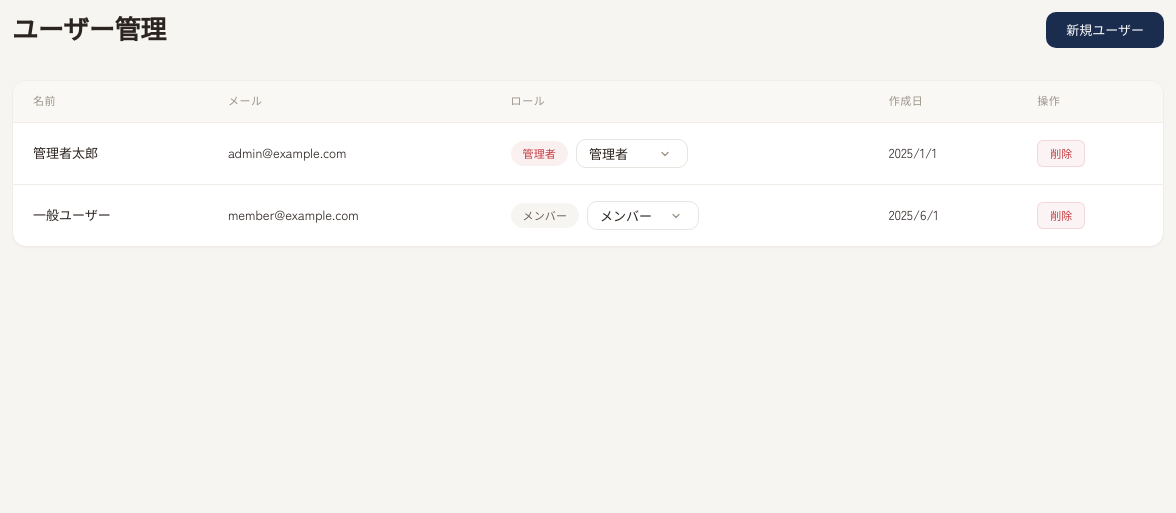
Test: UsersPage › 新規ユーザー作成フォームが開閉できる
Note: ボタンクリックでフォーム表示
Step 1. Click the button "新規ユーザー" → [1105, 30], box [1046,12,1164,48]
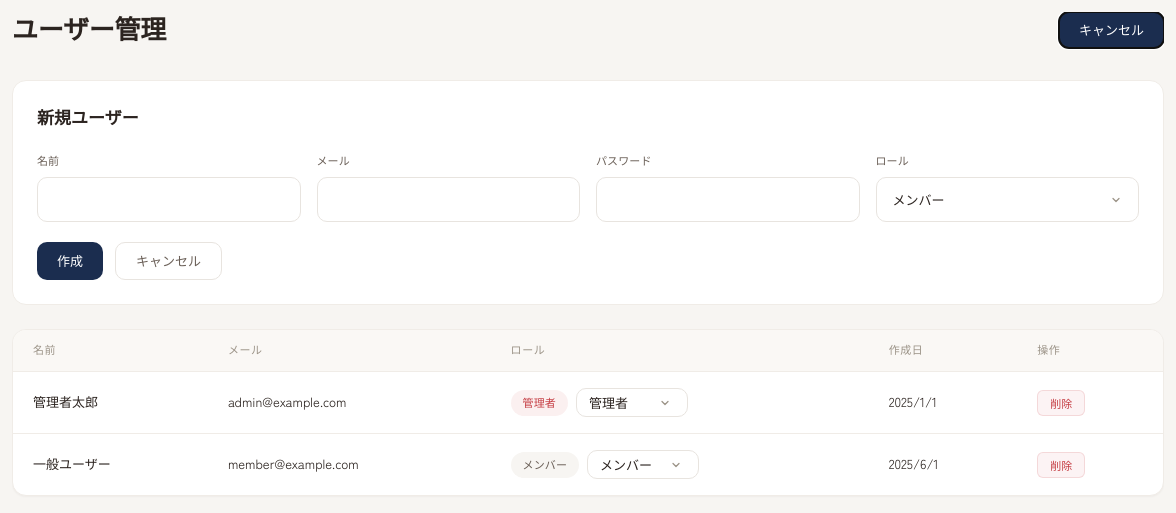
Check: the number of forms is 1, box [37,152,1139,280]
Note: キャンセルで非表示（フォーム内のキャンセルボタンをクリック）
Step 2. Click the button "キャンセル" below "新規ユーザー" → [168, 261], box [115,242,222,280]
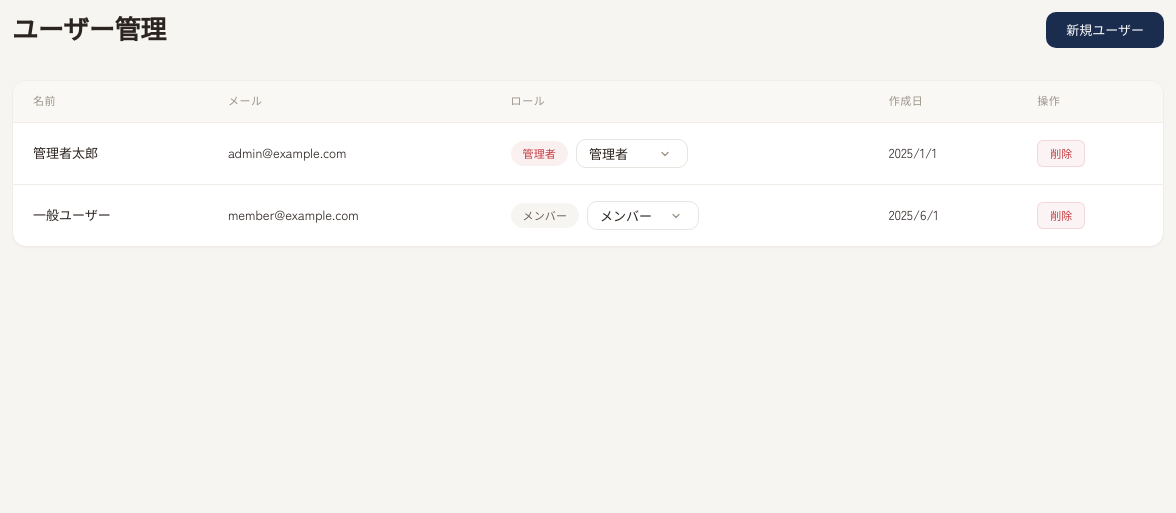
Check: no forms are shown
